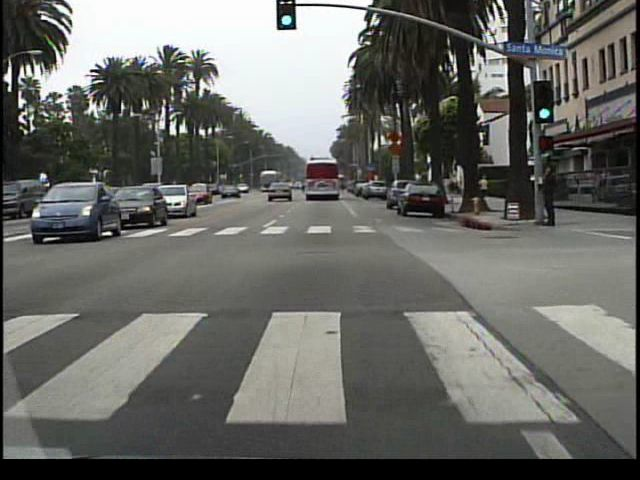person: (537, 160, 558, 231)
